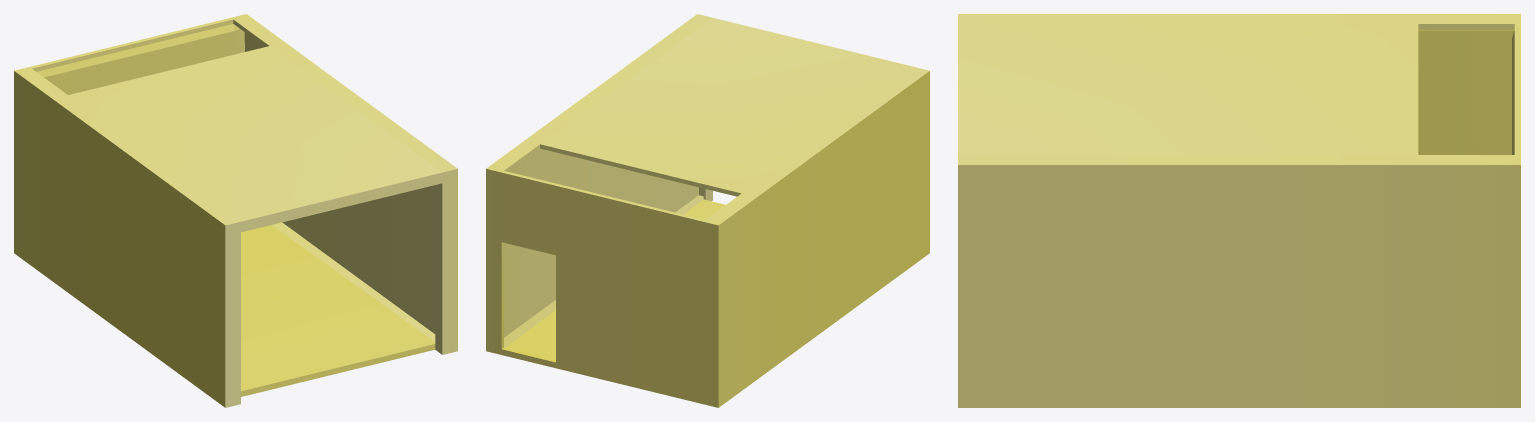
Rendered from SM_Steet_House_F1_open_V2.fbx.
3 renders of one model, left to right at view 1: azimuth 30°, elevation 25°; view 2: azimuth 150°, elevation 25°; view 3: azimuth 270°, elevation 25°, orthographic. The views are drawn at different scales.
Parts seen in each view (by area): view 1: Steet_House_F1_Open_V2_mash.001; view 2: Steet_House_F1_Open_V2_mash.001; view 3: Steet_House_F1_Open_V2_mash.001.
Boxes of the visible parts, box(x1,y1,x2,y2) form: Steet_House_F1_Open_V2_mash.001: box(14, 14, 457, 407); Steet_House_F1_Open_V2_mash.001: box(486, 14, 929, 407); Steet_House_F1_Open_V2_mash.001: box(958, 14, 1520, 407).
Bounding box in the file's own units: 4 × 3 × 6.3.
